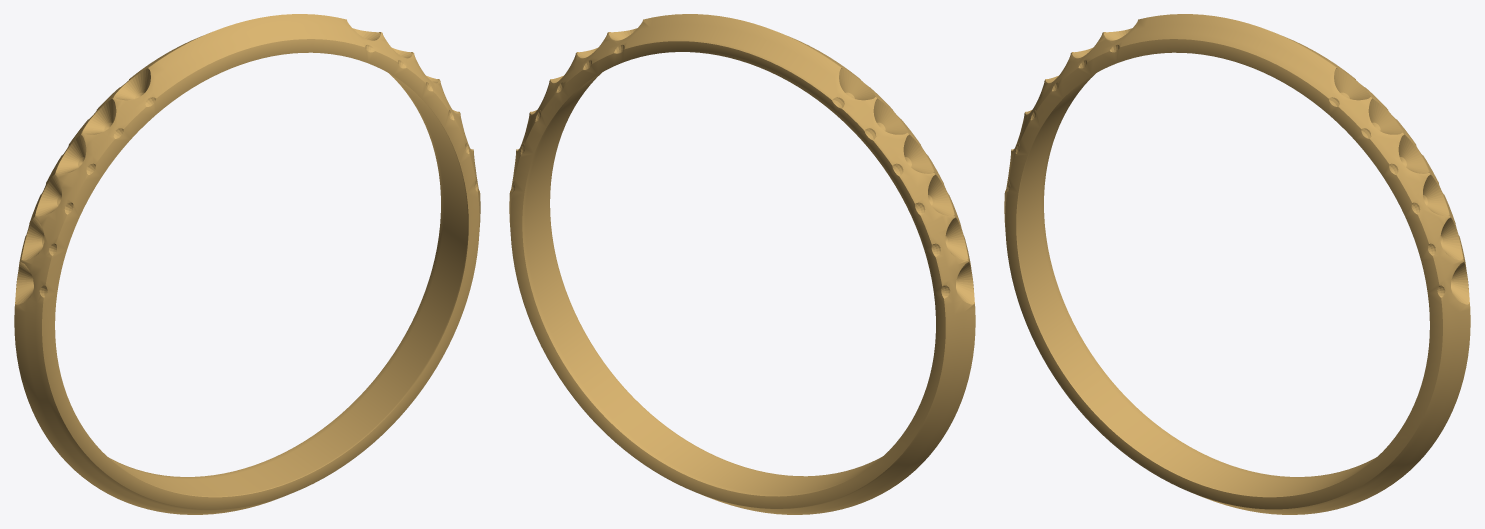
File: knife-edge-scalloped-u-cut.glb
3 renders of one model, left to right at view 1: azimuth 30°, elevation 25°; view 2: azimuth 150°, elevation 25°; view 3: azimuth 330°, elevation 25°, orthographic.
Visible parts, largest first — view 1: Band; view 2: Band; view 3: Band.
Boxes of the visible parts, x1,y1,x2,y2 form: Band: (14,14,480,514); Band: (509,14,975,514); Band: (1004,14,1470,514).
Size of the model in its own units: 19.6 by 19.6 by 2.1.
